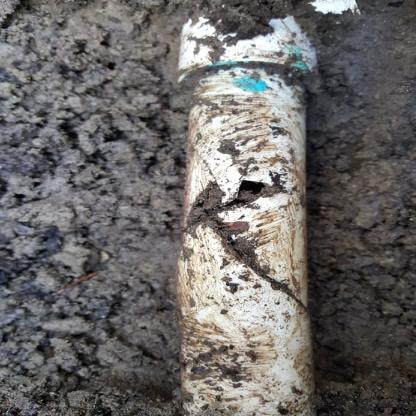PVC: (178, 14, 320, 415)
